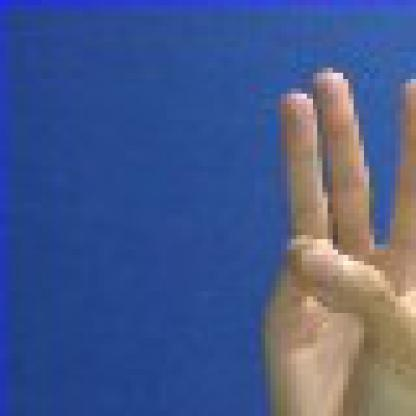three: (249, 52, 410, 411)
